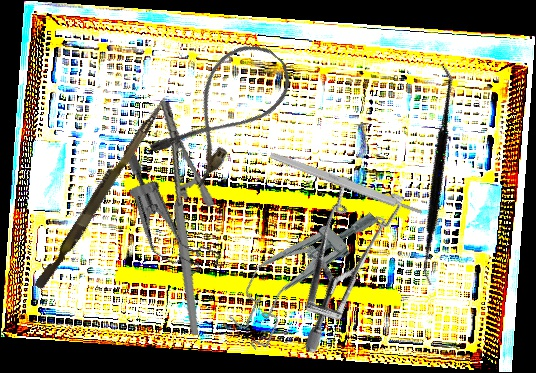Cannula: (144, 29, 303, 193)
Needle Holder: (113, 100, 245, 336)
Pusher: (34, 90, 169, 294)
Scalpel Handle: (268, 150, 424, 218)
Spatula Surgical: (342, 62, 530, 287)
Speculum: (234, 151, 449, 357), (214, 184, 388, 355), (89, 149, 251, 289)
